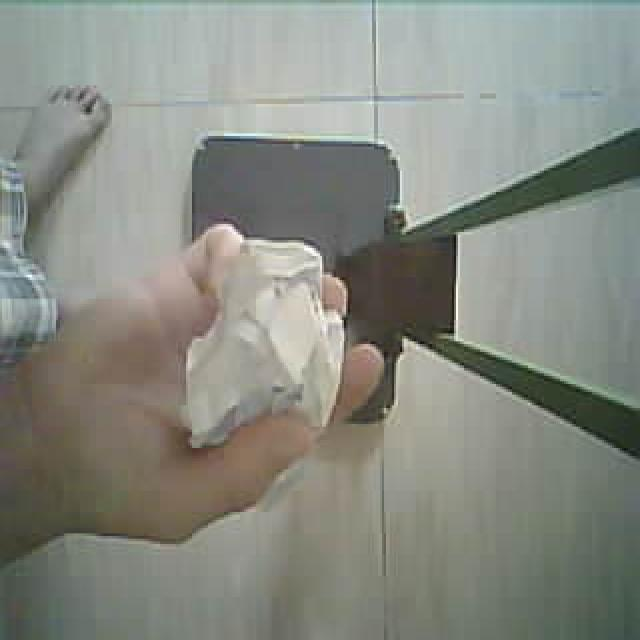Paper: (126, 194, 400, 484)
